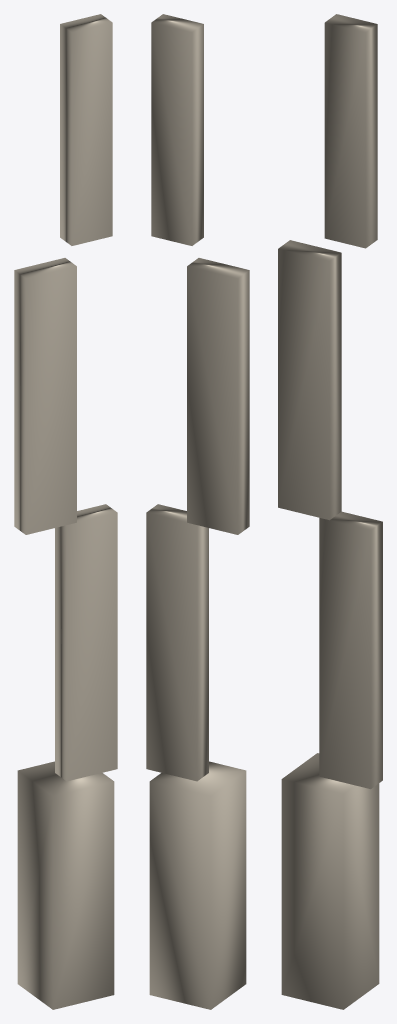
File: kris.glb
3 renders of one model, left to right at view 1: azimuth 30°, elevation 25°; view 2: azimuth 150°, elevation 25°; view 3: azimuth 330°, elevation 25°, orthographic.
Visible parts, largest first — view 1: kris; view 2: kris; view 3: kris.
Boxes of the visible parts, left/top/right/bottom form: kris: left=14, top=14, right=117, bottom=1009; kris: left=146, top=14, right=249, bottom=1009; kris: left=278, top=14, right=382, bottom=1009.
Bounding box in the file's own units: 0.045 × 0.45 × 0.03.
